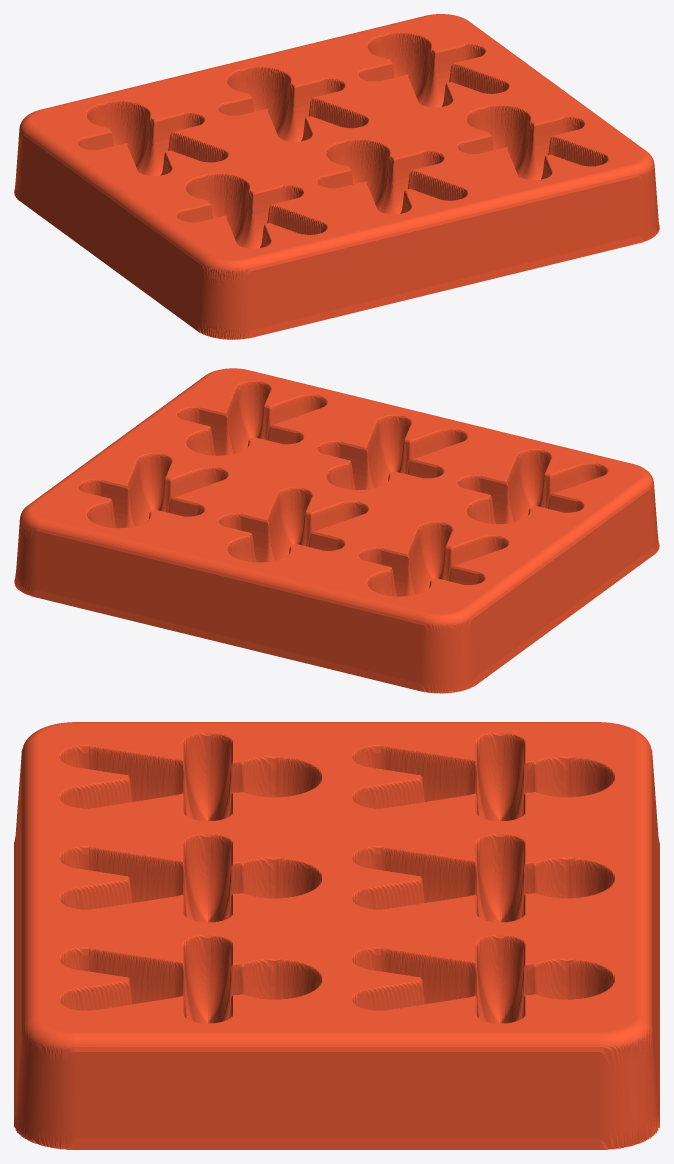
Rendered from mold.glb.
3 views of the same model, one above another, from view 1: azimuth 30°, elevation 25°; view 2: azimuth 150°, elevation 25°; view 3: azimuth 270°, elevation 25° (orthographic). The views are drawn at different scales.
Visible parts, largest first — view 1: geometry_0; view 2: geometry_0; view 3: geometry_0.
Boxes of the visible parts, box(x1,y1,x2,y2) form: geometry_0: box(14, 14, 659, 339); geometry_0: box(14, 368, 659, 693); geometry_0: box(14, 722, 659, 1149).
Size of the model in its own units: 0.1151 by 0.0175 by 0.0955.
